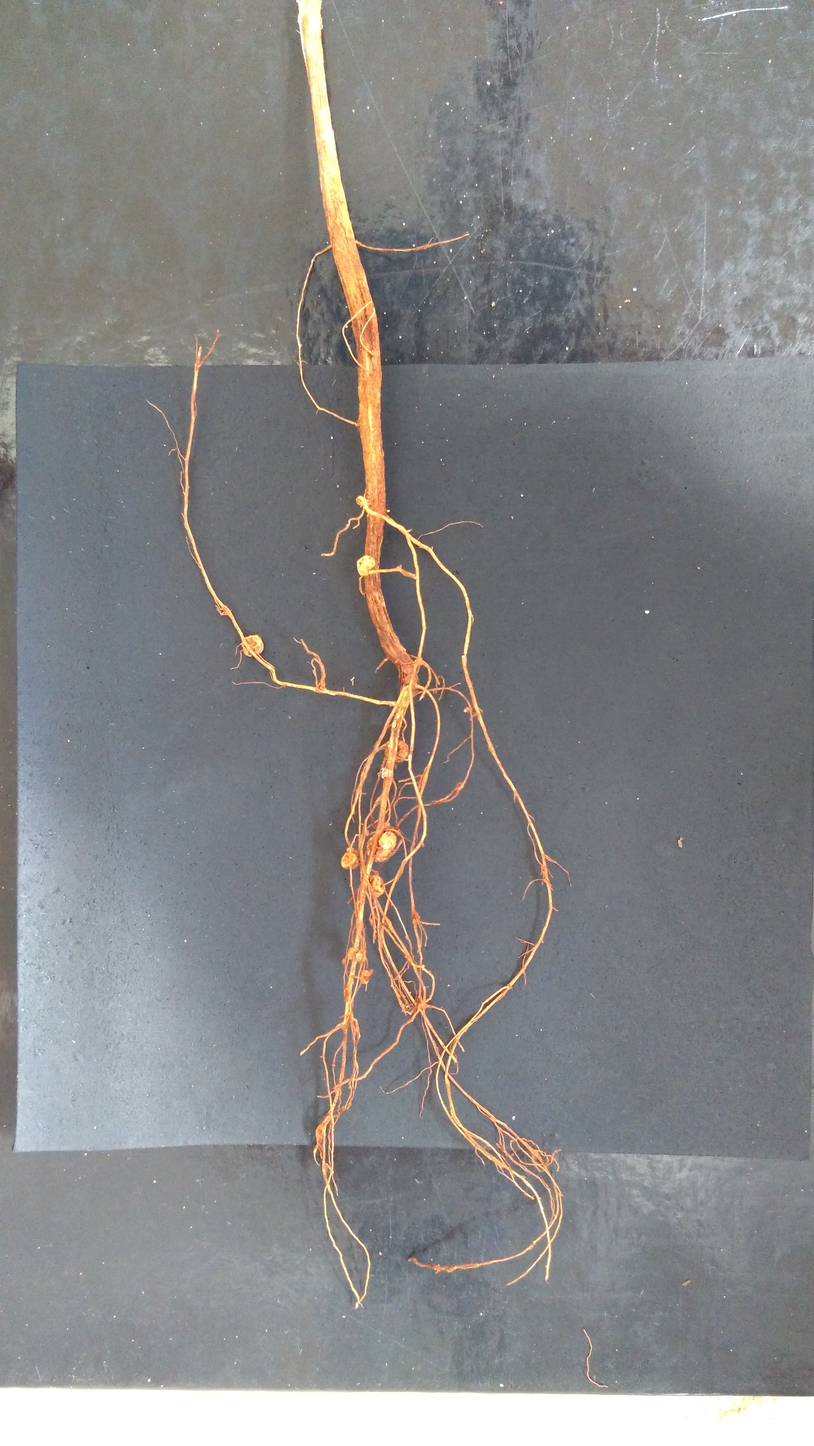nodule: (365, 830, 398, 863), (381, 738, 411, 765), (238, 633, 266, 657), (367, 869, 387, 899), (339, 846, 361, 872), (355, 554, 377, 578), (346, 946, 364, 963), (359, 968, 374, 986)
